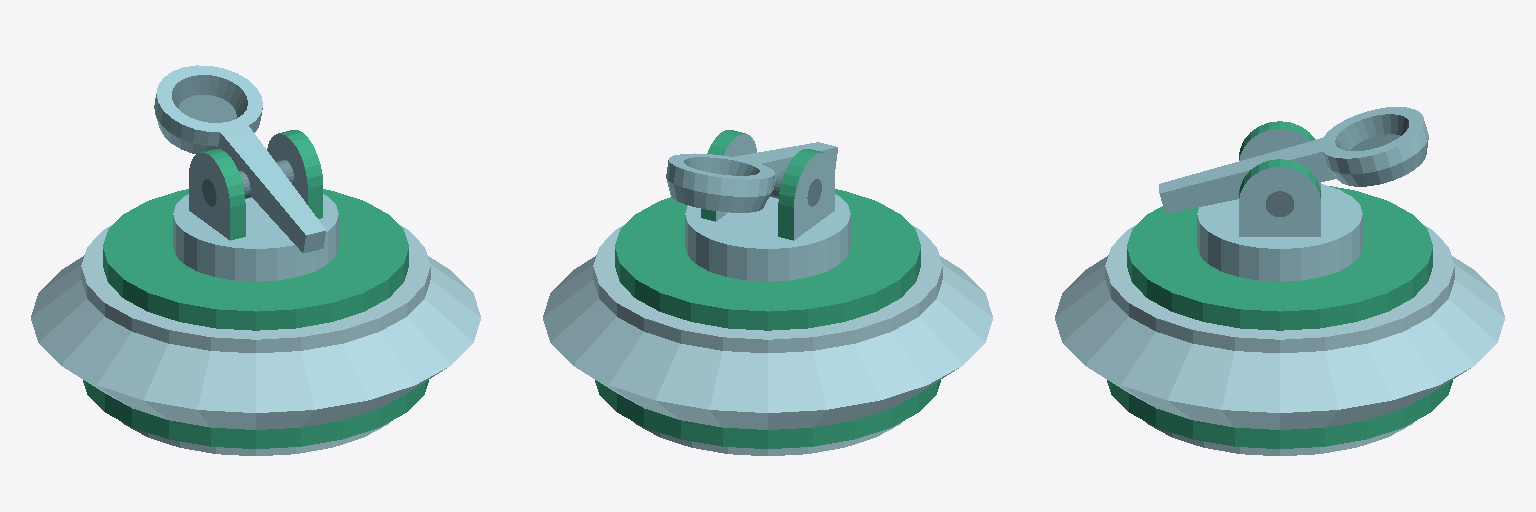
The model's file is EnemyGreenWG.obj.
3 views of the same model, side by side, from view 1: azimuth 30°, elevation 25°; view 2: azimuth 150°, elevation 25°; view 3: azimuth 270°, elevation 25° (orthographic).
Visible parts, largest first — view 1: catapult; view 2: catapult; view 3: catapult.
Part boxes in pixels (x1,y1,x2,y2): catapult: (31, 65, 480, 455); catapult: (543, 130, 992, 455); catapult: (1055, 107, 1504, 455).
Bounding box in the file's own units: 1 × 0.6652 × 1.